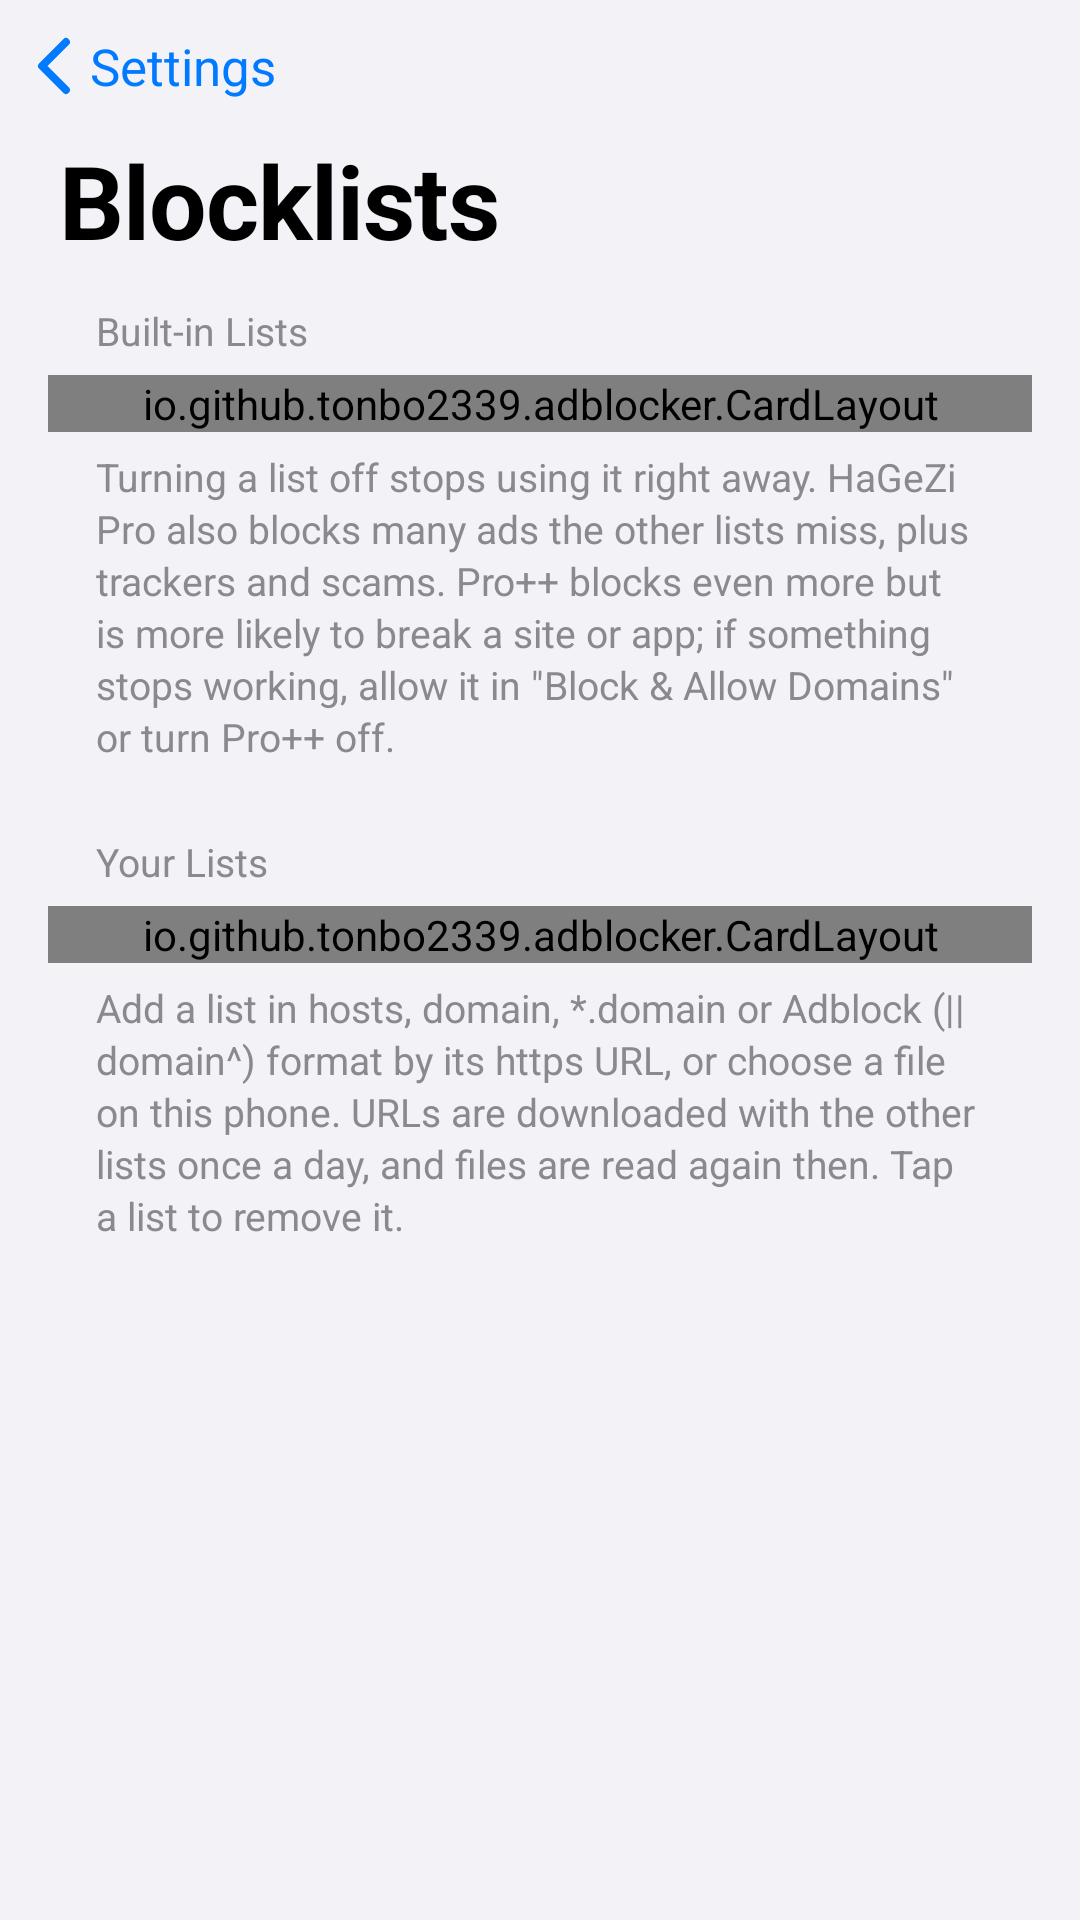

Where to tap for icons on this 1080 x 1920 app screen, as (x,y):
back: (54,65)
